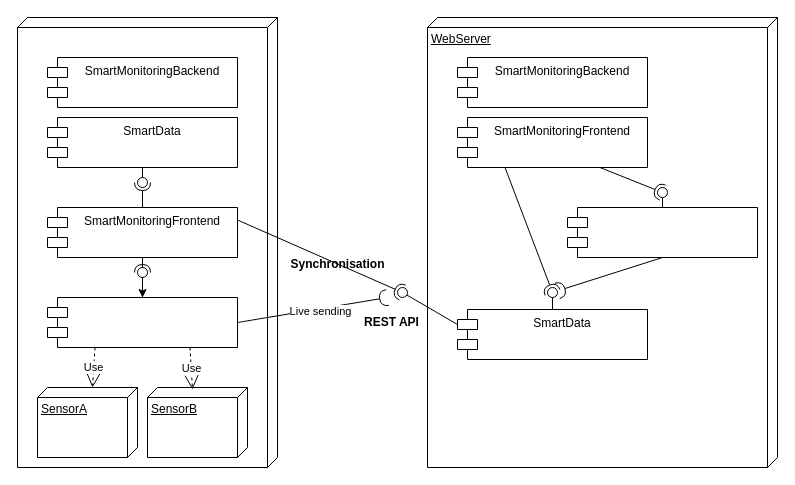
Some shapes in this 795 by 485 pixel diagram are drawn without their labels. The box of each missing label's shape, as (x1, y1, x2, y2) in pixels:
SENSORpi: (16, 16, 278, 468)
SmartBridge: (46, 296, 238, 348)
SmartDataLyser: (566, 206, 758, 258)
